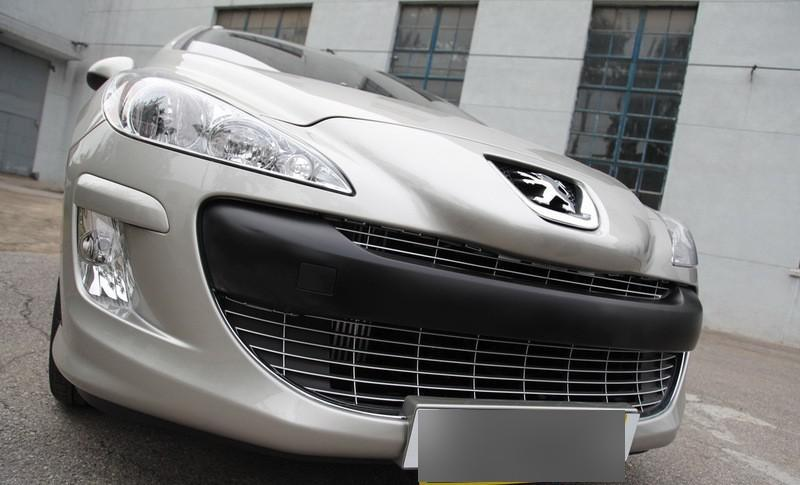Wagon: (48, 24, 706, 472)
